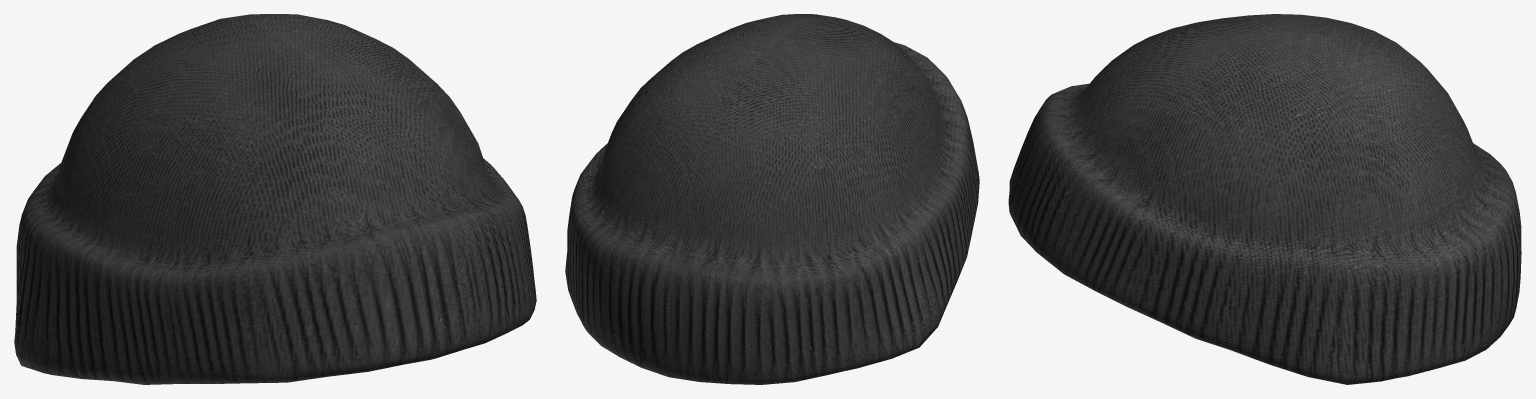
The model's file is hat.glb.
3 renders of one model, left to right at view 1: azimuth 30°, elevation 25°; view 2: azimuth 150°, elevation 25°; view 3: azimuth 270°, elevation 25°, orthographic. The views are drawn at different scales.
Visible parts, largest first — view 1: Object_2; view 2: Object_2; view 3: Object_2.
Boxes of the visible parts, left/top/right/bottom form: Object_2: left=14, top=14, right=536, bottom=384; Object_2: left=565, top=14, right=979, bottom=384; Object_2: left=1008, top=14, right=1521, bottom=384.
Bounding box in the file's own units: 0.2172 × 0.1521 × 0.2507.
Materials: 1 (1 with a texture image).
